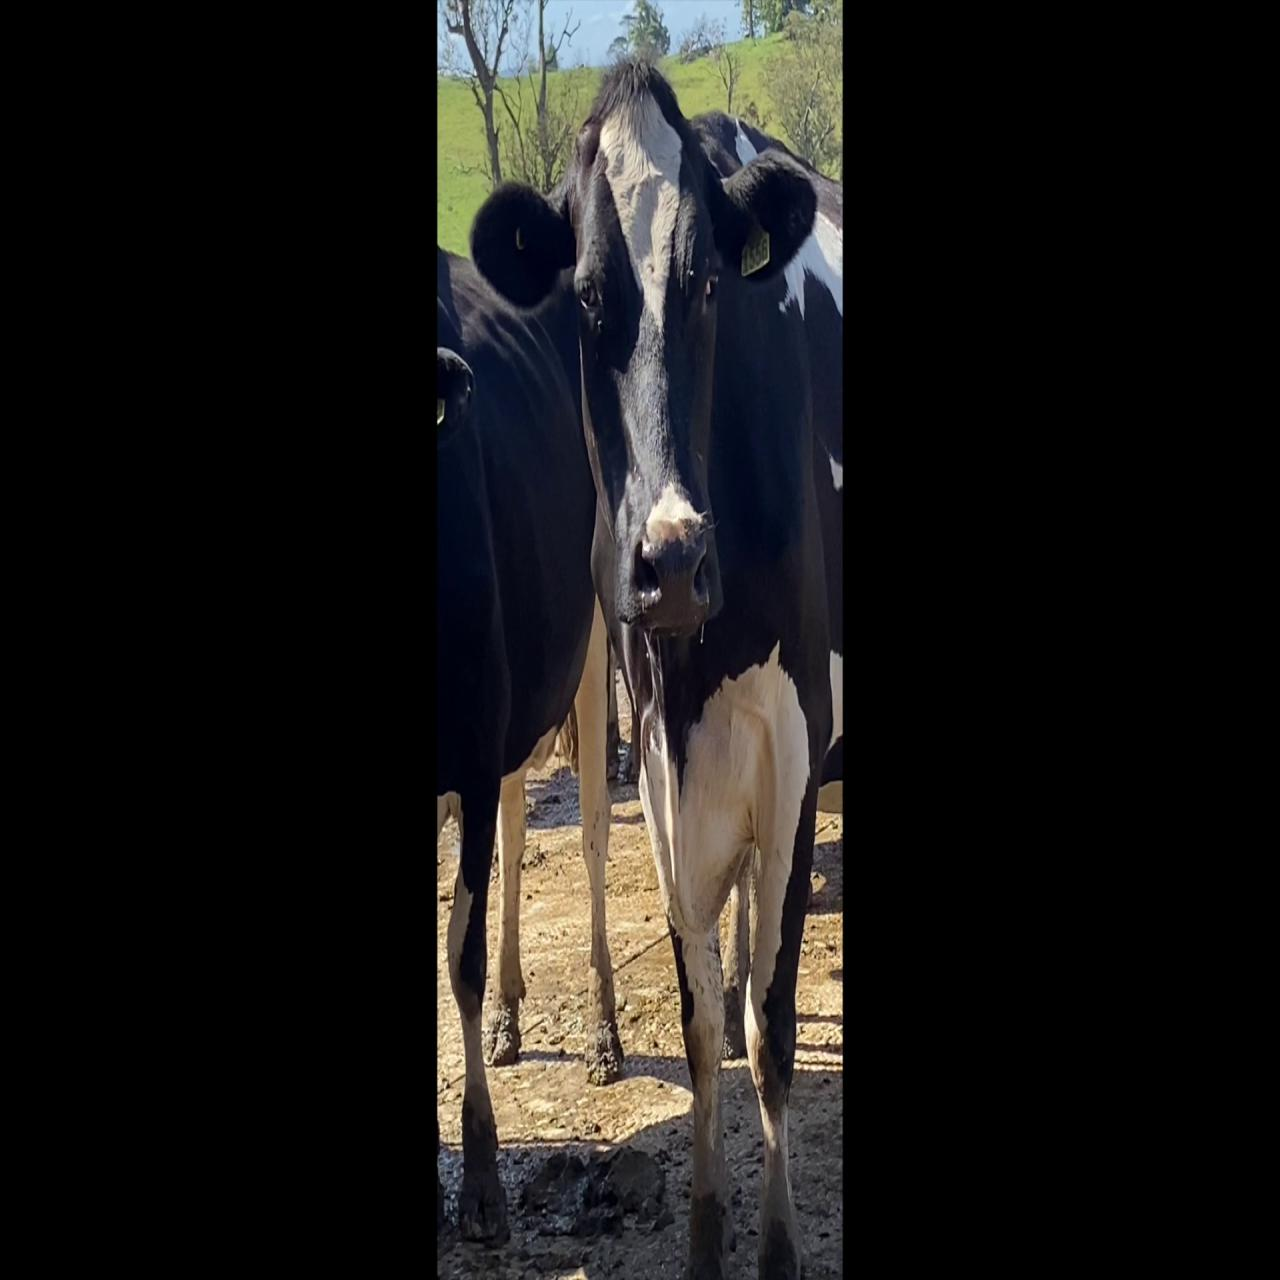Face: (579, 75, 714, 633)
